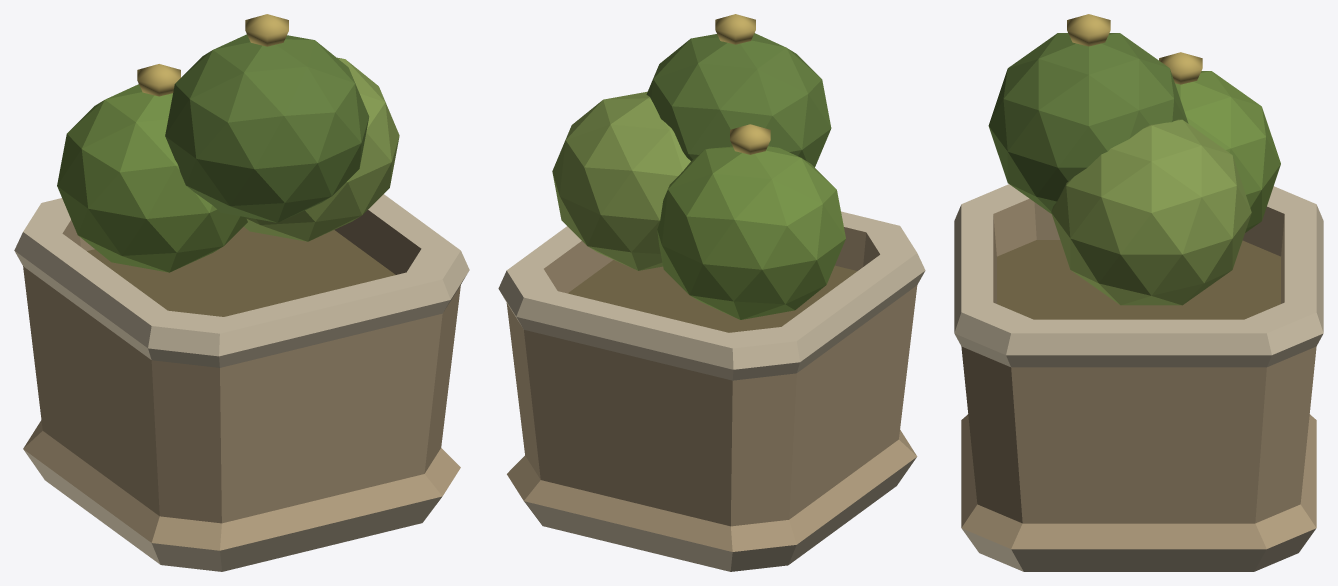
File: planter_square.glb
The picture shows the model from 3 angles, left to right: view 1: azimuth 30°, elevation 25°; view 2: azimuth 150°, elevation 25°; view 3: azimuth 270°, elevation 25°; orthographic projection. The views are drawn at different scales.
Visible parts, largest first — view 1: planter_square; view 2: planter_square; view 3: planter_square.
Part boxes in pixels (bbox=[...]): planter_square: bbox=[14, 14, 469, 571]; planter_square: bbox=[498, 14, 925, 571]; planter_square: bbox=[954, 14, 1323, 571].
Size of the model in its own units: 0.884 by 1.29 by 0.884.
